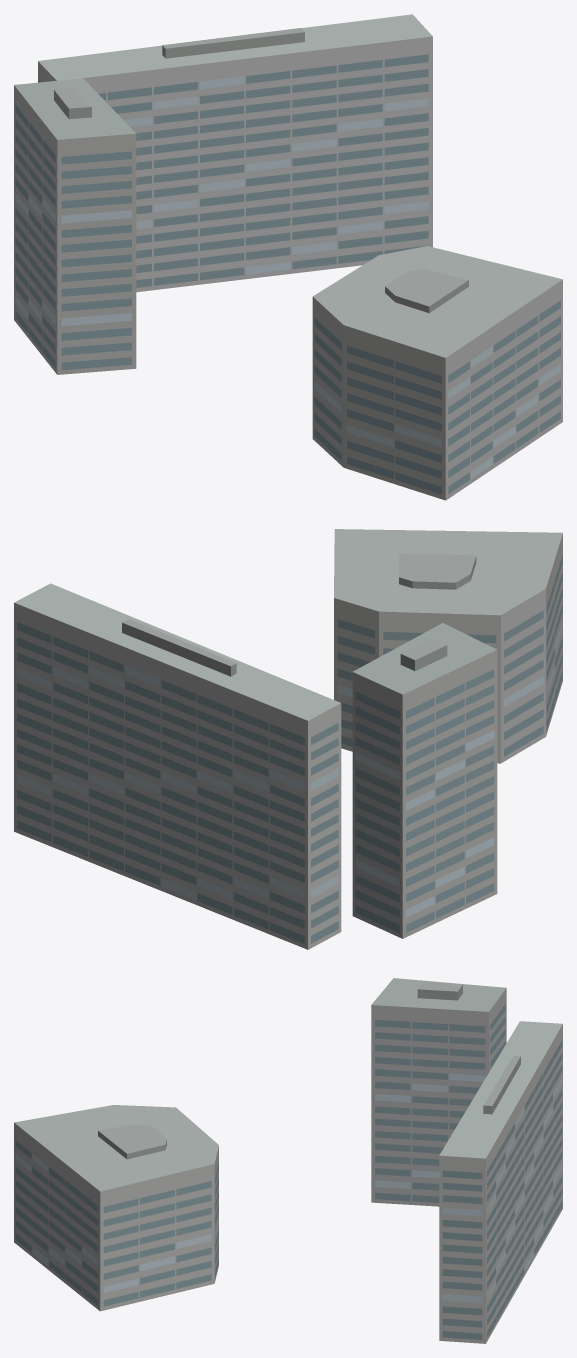
The model's file is apt-a12281701.glb.
3 renders of one model, top to bottom at view 1: azimuth 30°, elevation 25°; view 2: azimuth 150°, elevation 25°; view 3: azimuth 270°, elevation 25°, orthographic. The views are drawn at different scales.
Parts seen in each view (by area): view 1: apt-a12281701; view 2: apt-a12281701; view 3: apt-a12281701.
Boxes of the visible parts, x1=… form: apt-a12281701: x1=14, y1=14, x2=562, y2=500; apt-a12281701: x1=14, y1=529, x2=562, y2=949; apt-a12281701: x1=14, y1=978, x2=562, y2=1343.
Size of the model in its own units: 89.1 by 51 by 123.
